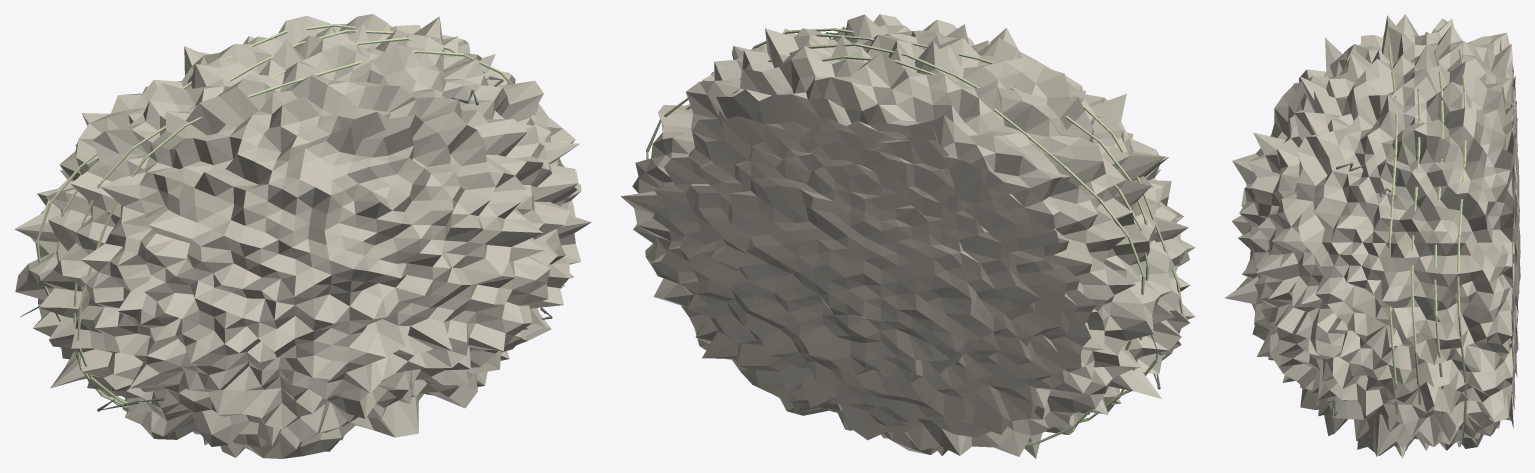
File: Aquarion_Eroded_Limestone_Hero.glb
3 renders of one model, left to right at view 1: azimuth 30°, elevation 25°; view 2: azimuth 150°, elevation 25°; view 3: azimuth 270°, elevation 25°, orthographic. The views are drawn at different scales.
Parts seen in each view (by area): view 1: Aquarion_Eroded_Limestone_Hero_mass; view 2: Aquarion_Eroded_Limestone_Hero_mass; view 3: Aquarion_Eroded_Limestone_Hero_mass.
Boxes of the visible parts, x1,y1,x2,y2 form: Aquarion_Eroded_Limestone_Hero_mass: (14, 14, 591, 458); Aquarion_Eroded_Limestone_Hero_mass: (621, 14, 1195, 458); Aquarion_Eroded_Limestone_Hero_mass: (1225, 14, 1520, 458).
Size of the model in its own units: 3.62 by 2.66 by 1.92.
